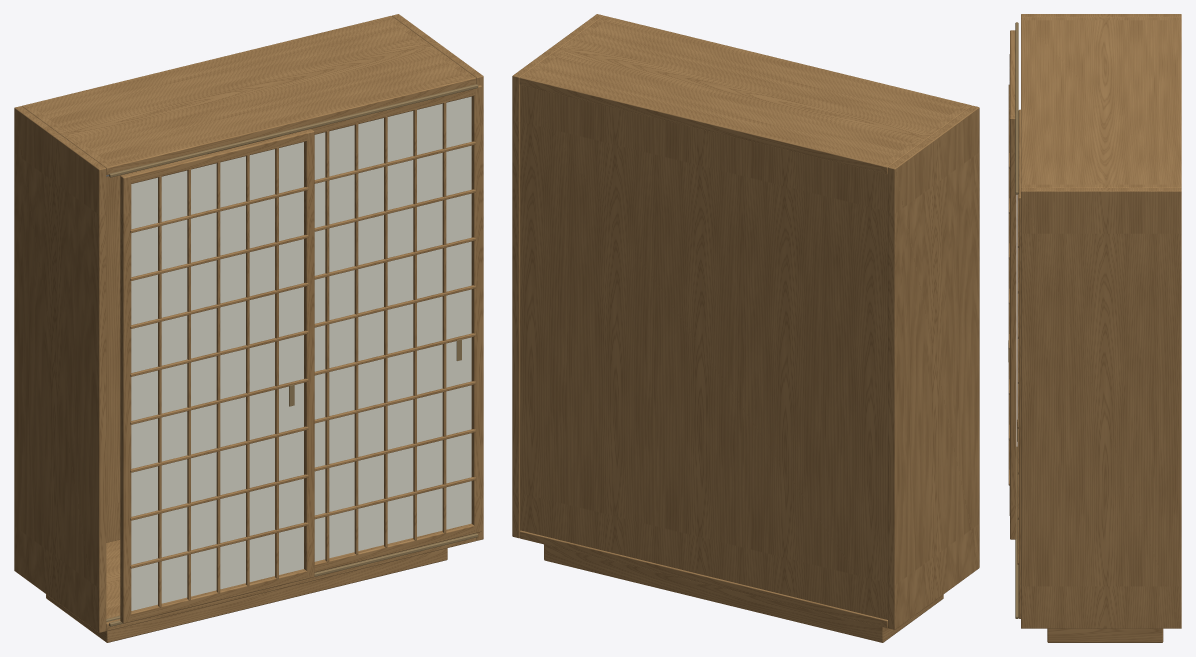
3 views of the same model, side by side, from view 1: azimuth 30°, elevation 25°; view 2: azimuth 150°, elevation 25°; view 3: azimuth 270°, elevation 25° (orthographic). The views are drawn at different scales.
Parts seen in each view (by area): view 1: Shoji | translucent screen, Shoji | translucent screen.001, Case | side, Case | horizontal panel.001, Case | inset back, Shoji | vertical frame, Shoji | vertical frame.001, Shoji | vertical frame.003, Recessed structural plinth, Case | horizontal panel, Shoji | frame rail.001, Shoji | lattice upright.005 (+31 smaller); view 2: Case | inset back, Case | side, Case | horizontal panel.001, Recessed structural plinth, Case | side.001, Case | horizontal panel; view 3: Case | side.001, Case | horizontal panel.001, Shoji | vertical frame.001, Recessed structural plinth, Shoji | vertical frame.003, Shoji | sliding track.002, Case | side, Shoji | frame rail.001, Shoji | sliding track, Shoji | lattice upright.004.
Boxes of the visible parts, box(x1,y1,x2,y2) form: Shoji | translucent screen: box(131, 142, 303, 610); Shoji | translucent screen.001: box(314, 96, 471, 561); Case | side: box(14, 106, 106, 632); Case | horizontal panel.001: box(22, 16, 476, 175); Case | inset back: box(106, 154, 205, 542); Shoji | vertical frame: box(120, 174, 131, 623); Shoji | vertical frame.001: box(304, 129, 314, 578); Shoji | vertical frame.003: box(471, 85, 481, 533); Recessed structural plinth: box(46, 548, 447, 642); Case | horizontal panel: box(106, 536, 476, 630); Shoji | frame rail.001: box(127, 130, 307, 183); Shoji | lattice upright.005: box(325, 131, 329, 562); Case | inset back: box(520, 85, 887, 619); Case | side: box(888, 105, 979, 629); Case | horizontal panel.001: box(519, 15, 971, 174); Recessed structural plinth: box(544, 544, 943, 642); Case | side.001: box(512, 14, 603, 538); Case | horizontal panel: box(519, 530, 887, 627); Case | side.001: box(1021, 188, 1181, 628); Case | horizontal panel.001: box(1021, 17, 1181, 187); Shoji | vertical frame.001: box(1010, 115, 1016, 539); Recessed structural plinth: box(1047, 628, 1163, 642); Shoji | vertical frame.003: box(1018, 194, 1020, 618); Shoji | sliding track.002: box(1015, 22, 1018, 194); Case | side: box(1021, 14, 1181, 17); Shoji | frame rail.001: box(1010, 33, 1015, 115); Shoji | sliding track: box(1015, 447, 1018, 618); Shoji | lattice upright.004: box(1009, 108, 1009, 515).
Size of the model in its own units: 1.67 by 2.04 by 0.6915.
Materials: 5 (1 with a texture image).
